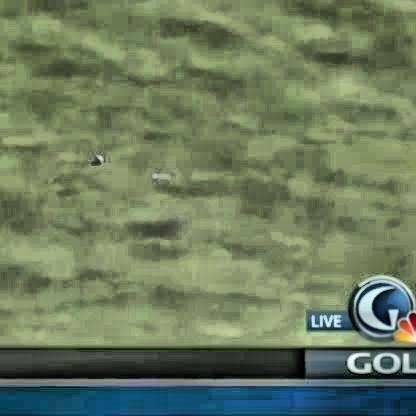golfball: (94, 151, 104, 162)
